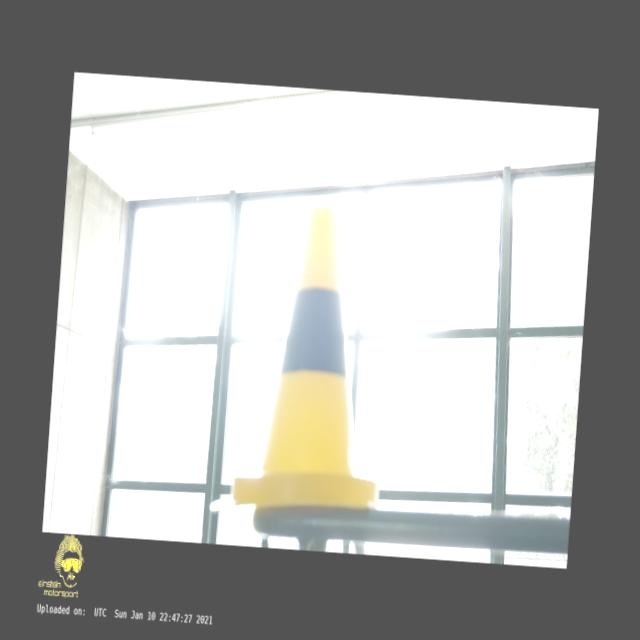yellow_cone: (228, 200, 396, 515)
